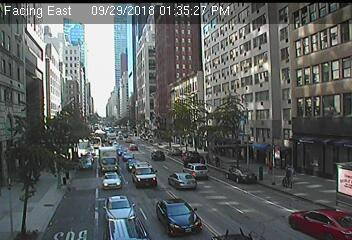car: (288, 209, 352, 240), (156, 199, 203, 236), (103, 196, 138, 223), (131, 163, 157, 188), (167, 173, 198, 191), (225, 167, 256, 185), (97, 147, 119, 171), (182, 163, 209, 180), (102, 172, 122, 189), (181, 151, 201, 165), (126, 160, 144, 171), (78, 160, 92, 170), (122, 152, 135, 162), (151, 151, 165, 160), (167, 148, 181, 157), (82, 152, 93, 163), (128, 144, 138, 150)
